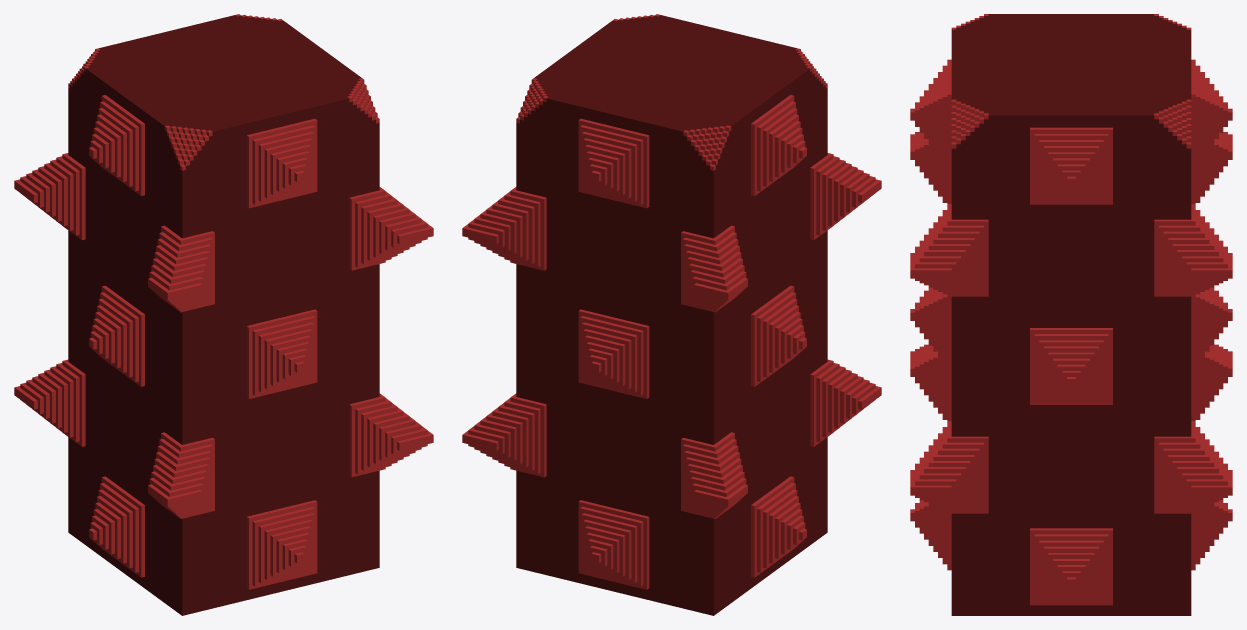
The model's file is Obstaculo.obj.
The picture shows the model from 3 angles, left to right: view 1: azimuth 30°, elevation 25°; view 2: azimuth 150°, elevation 25°; view 3: azimuth 270°, elevation 25°; orthographic projection. The views are drawn at different scales.
Size of the model in its own units: 7 by 12 by 7.
1 material, 1 textured.
